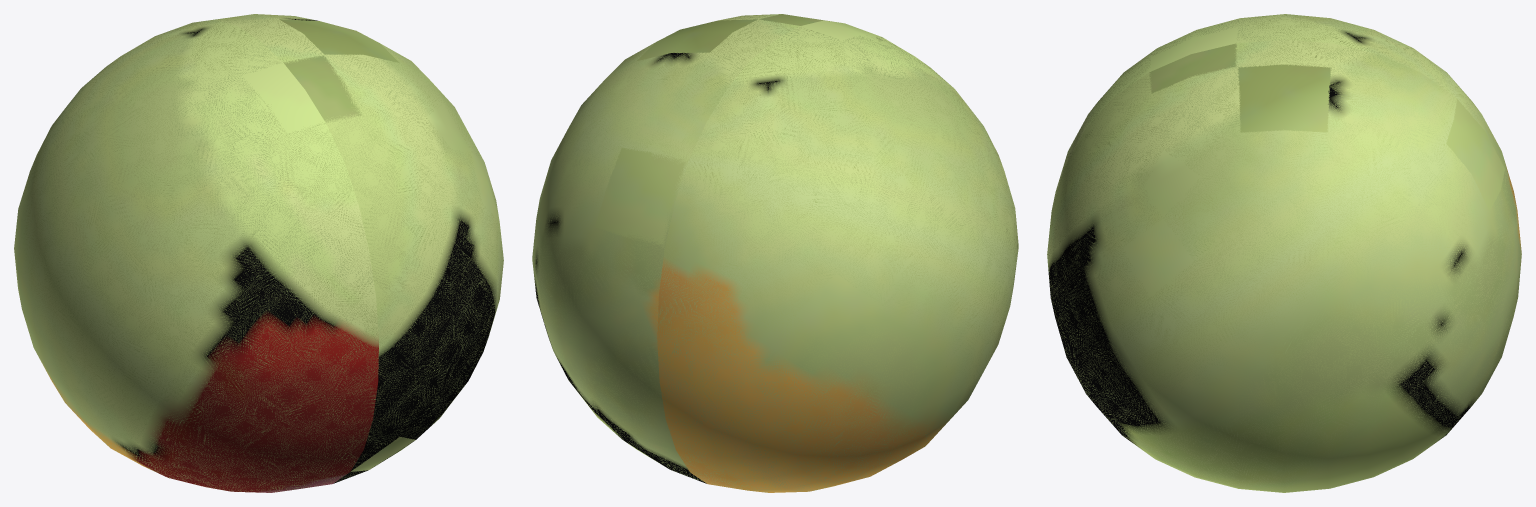
3 views of the same model, side by side, from view 1: azimuth 30°, elevation 25°; view 2: azimuth 150°, elevation 25°; view 3: azimuth 270°, elevation 25° (orthographic).
Parts seen in each view (by area): view 1: Object_0, Object_3; view 2: Object_0, Object_3; view 3: Object_0, Object_3.
Part boxes in pixels (<box>): Object_0: <box>14,14,503,492</box>; Object_3: <box>15,14,503,492</box>; Object_0: <box>532,14,1018,492</box>; Object_3: <box>532,14,1017,492</box>; Object_0: <box>1047,14,1521,492</box>; Object_3: <box>1048,14,1521,492</box>.
Size of the model in its own units: 0.2946 by 0.2889 by 0.291.
